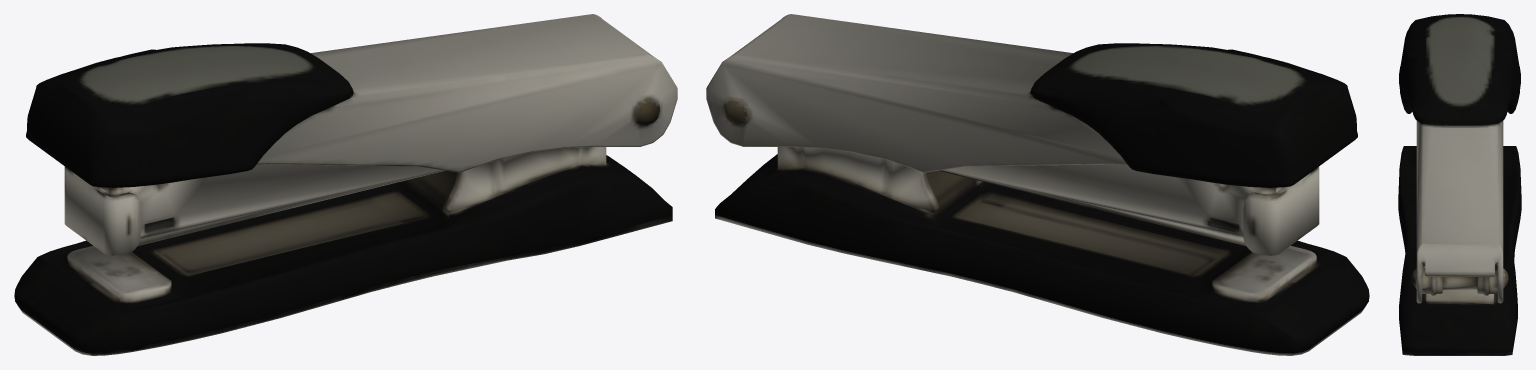
File: stapler.glb
3 views of the same model, side by side, from view 1: azimuth 30°, elevation 25°; view 2: azimuth 150°, elevation 25°; view 3: azimuth 270°, elevation 25° (orthographic). The views are drawn at different scales.
Visible parts, largest first — view 1: mesh_rep_0_ori_repair_quad; view 2: mesh_rep_0_ori_repair_quad; view 3: mesh_rep_0_ori_repair_quad.
Part boxes in pixels (x1=…): mesh_rep_0_ori_repair_quad: x1=14, y1=14, x2=677, y2=355; mesh_rep_0_ori_repair_quad: x1=706, y1=14, x2=1369, y2=355; mesh_rep_0_ori_repair_quad: x1=1398, y1=14, x2=1521, y2=355.
Bounding box in the file's own units: 0.1511 × 0.0566 × 0.0394.
1 material, 1 textured.
